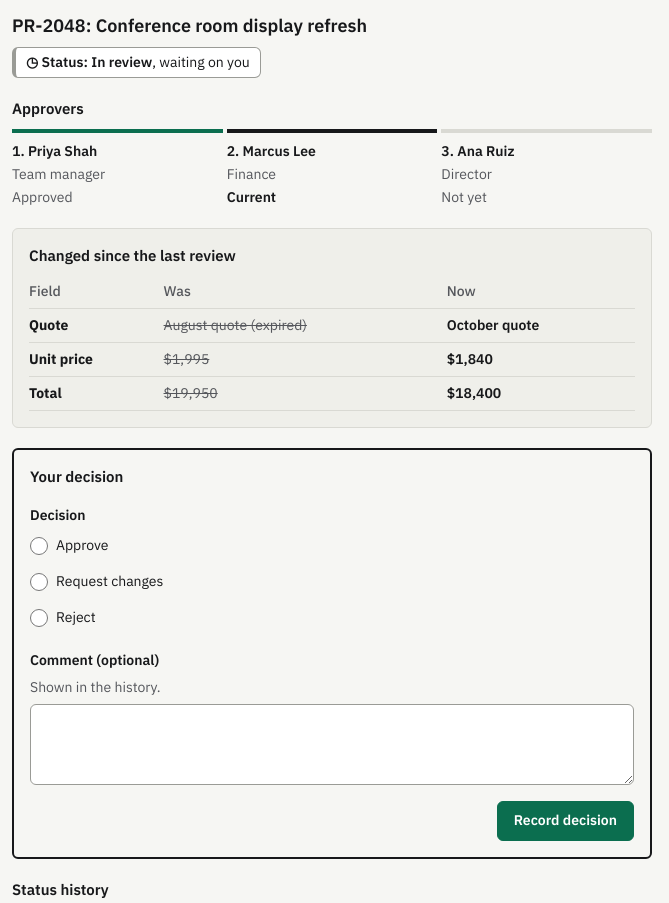
Test: ApprovalWorkflow › keeps the comment and shows a retry message when the save fails (edge case)
Click the radio button labelled "Request changes" at (39, 582), box [30, 572, 48, 590]
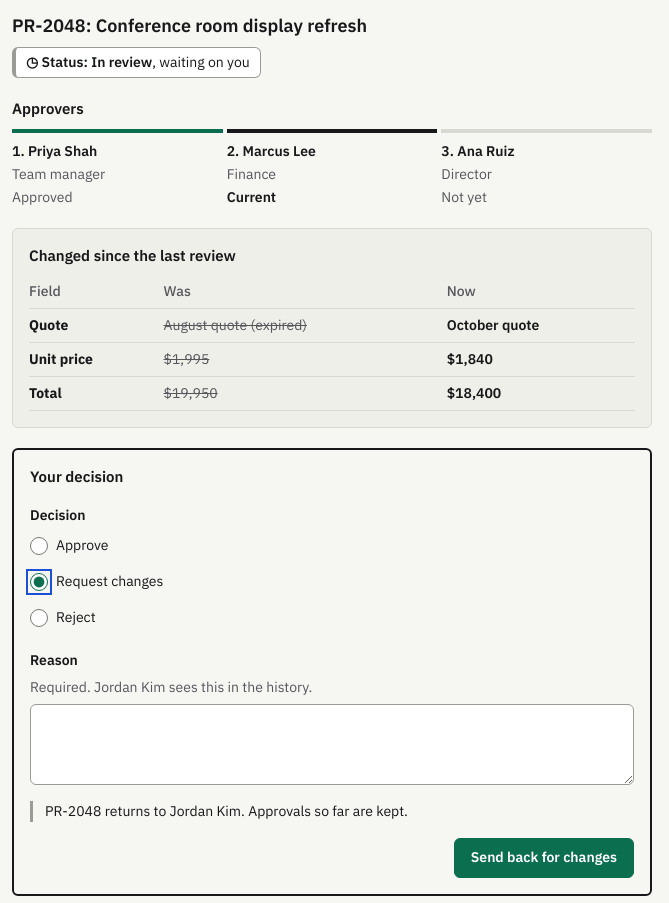
Type "Split the order across two quarters." into the text box labelled "Reason" at (332, 744), box [30, 704, 634, 784]
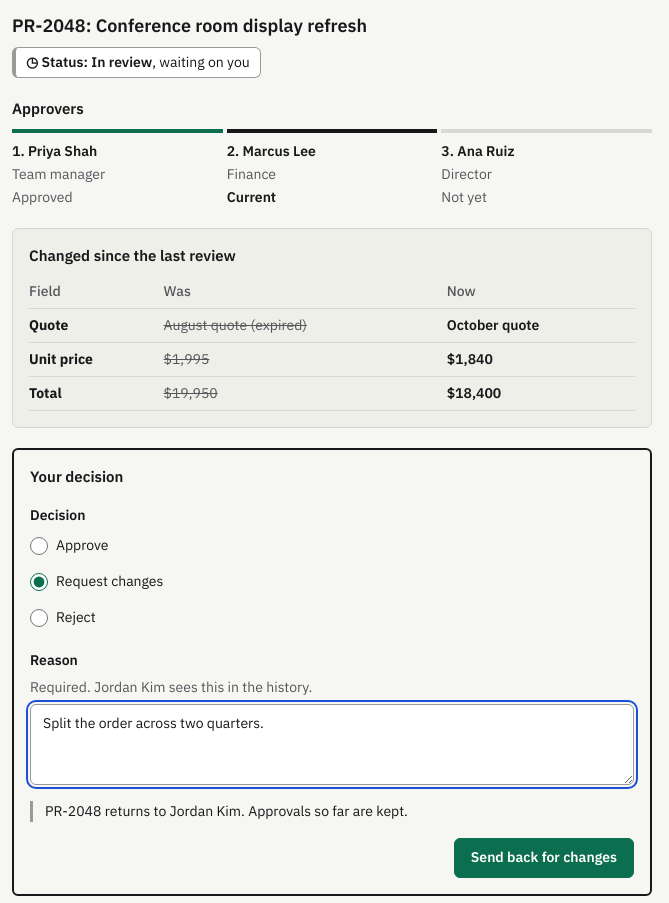
Click the button "Send back for changes" at (544, 858), box [454, 838, 634, 878]
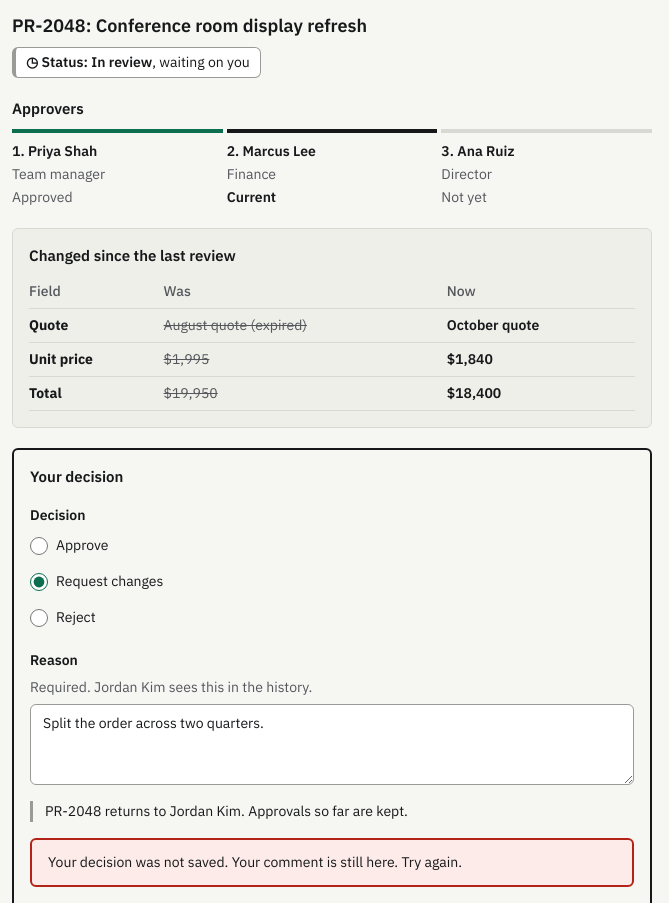
Expected: the message shows "Your comment is still here", [48, 852, 462, 870]
